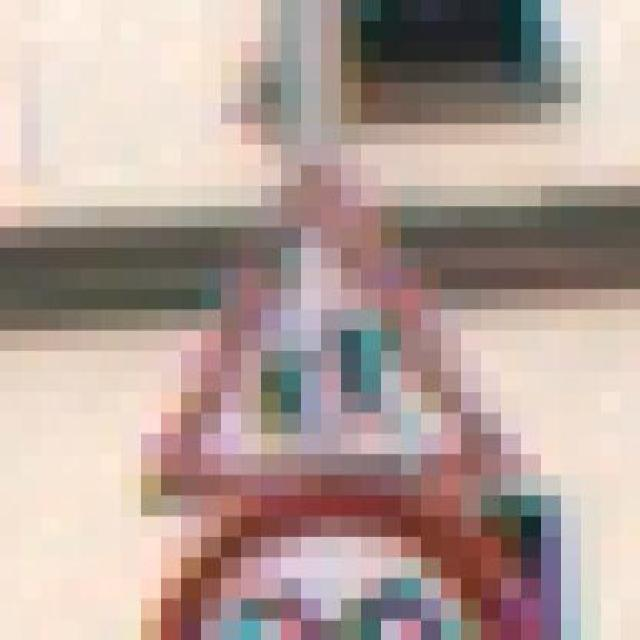Beware of children: (140, 144, 560, 516)
